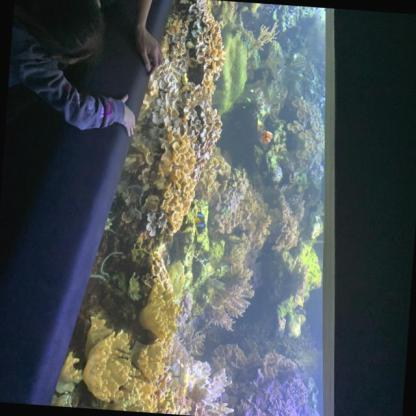fish: (192, 209, 206, 240), (262, 130, 273, 145)
